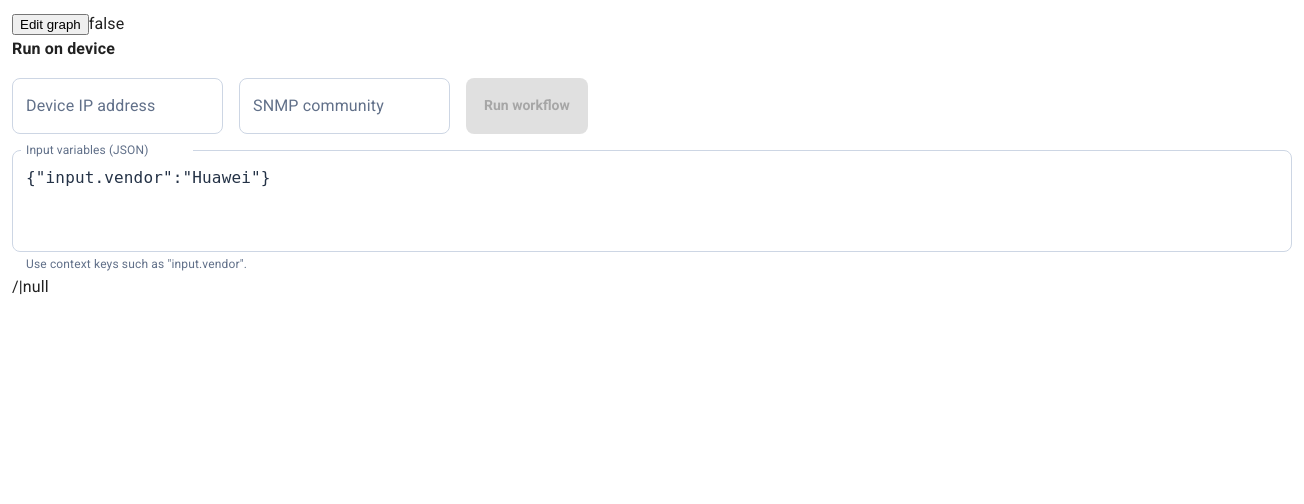
workflow execution › shows a workflow failure even when the HTTP request succeeds
Step 1. Type " 192.0.2.10 " into the field labelled "Device IP address" → (118,106), box [12,78,223,134]
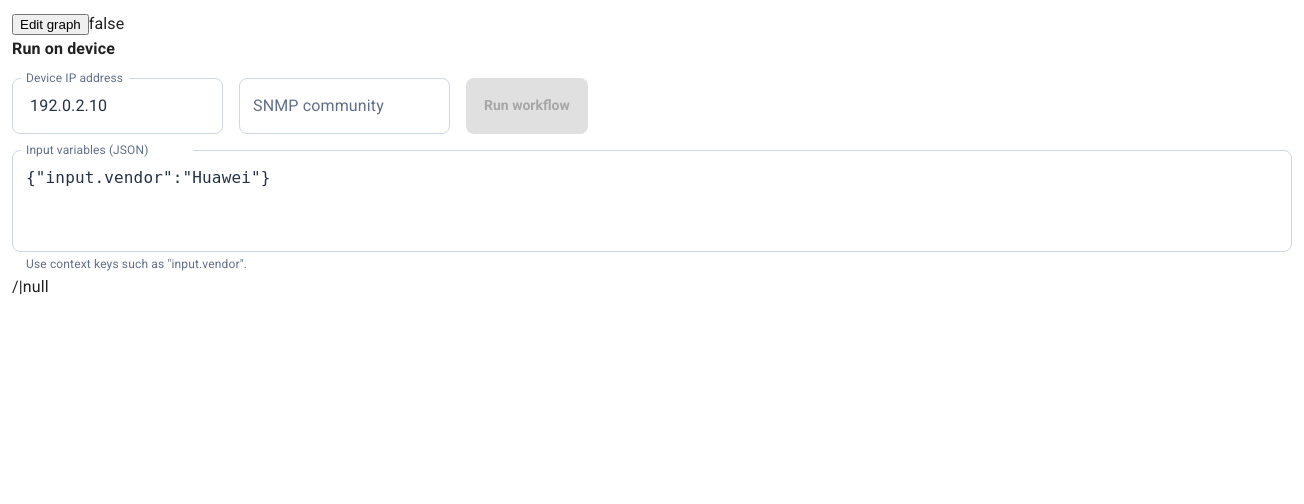
Step 2. Type "test-community" into the password field labelled "SNMP community" → (344,106), box [239,78,450,134]
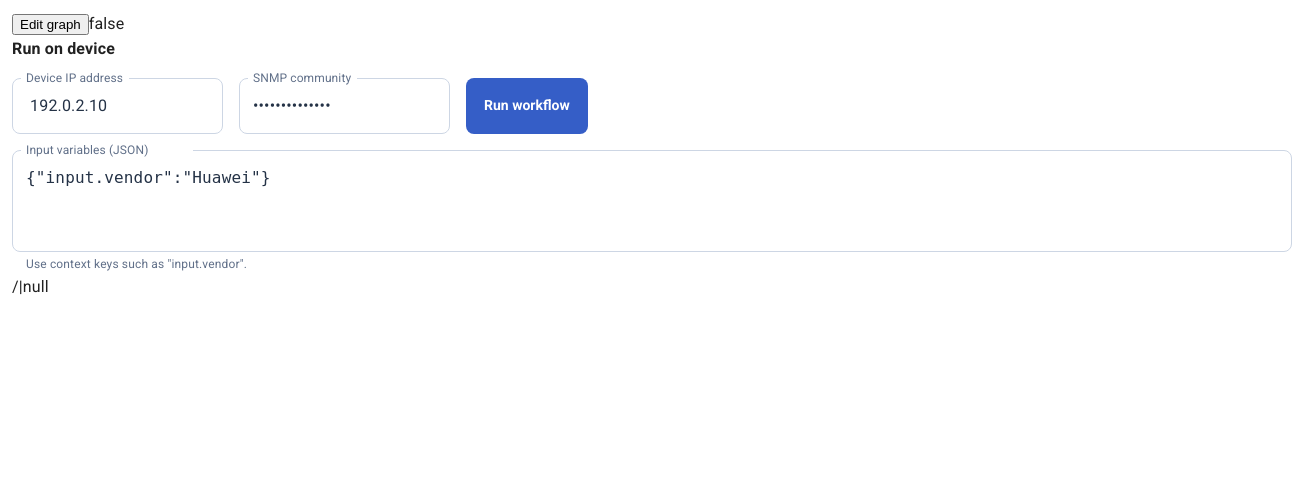
Step 3. Click the button "Run workflow" → (527,106), box [466,78,588,134]
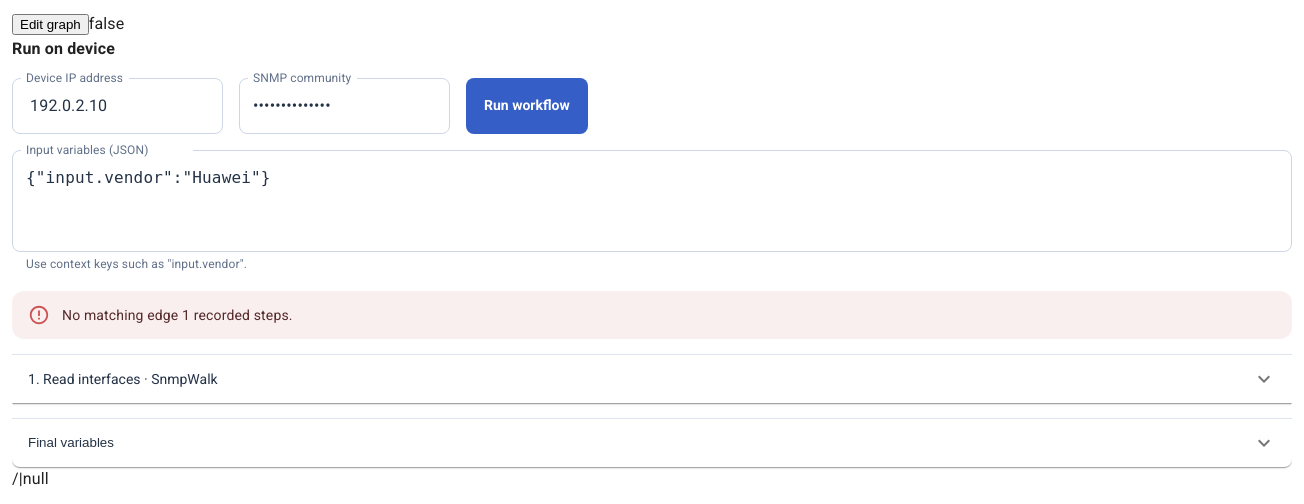
Result: the button "Run workflow" is enabled at [466,78,588,134]
Result: the message shows "No matching edge" at [62,306,178,322]
